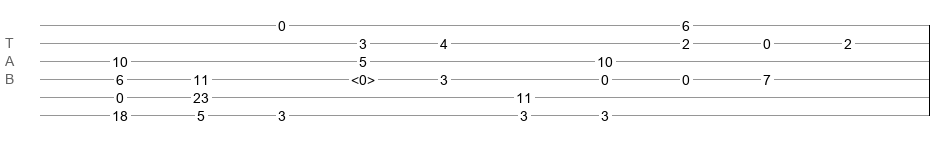0: (116, 90, 124, 100), (278, 18, 286, 28), (601, 72, 609, 82), (682, 72, 690, 82), (763, 36, 771, 46)
10: (112, 54, 128, 64), (597, 54, 613, 64)
11: (193, 72, 209, 82), (516, 90, 532, 100)
18: (112, 108, 128, 118)
2: (682, 36, 690, 46), (844, 36, 852, 46)
23: (193, 90, 209, 100)
3: (278, 108, 286, 118), (359, 36, 367, 46), (440, 72, 448, 82), (520, 108, 528, 118), (601, 108, 609, 118)
4: (440, 36, 448, 46)
5: (197, 108, 205, 118), (359, 54, 367, 64)
6: (116, 72, 124, 82), (682, 18, 690, 28)
7: (763, 72, 771, 82)
harmonic: (351, 72, 375, 82)
